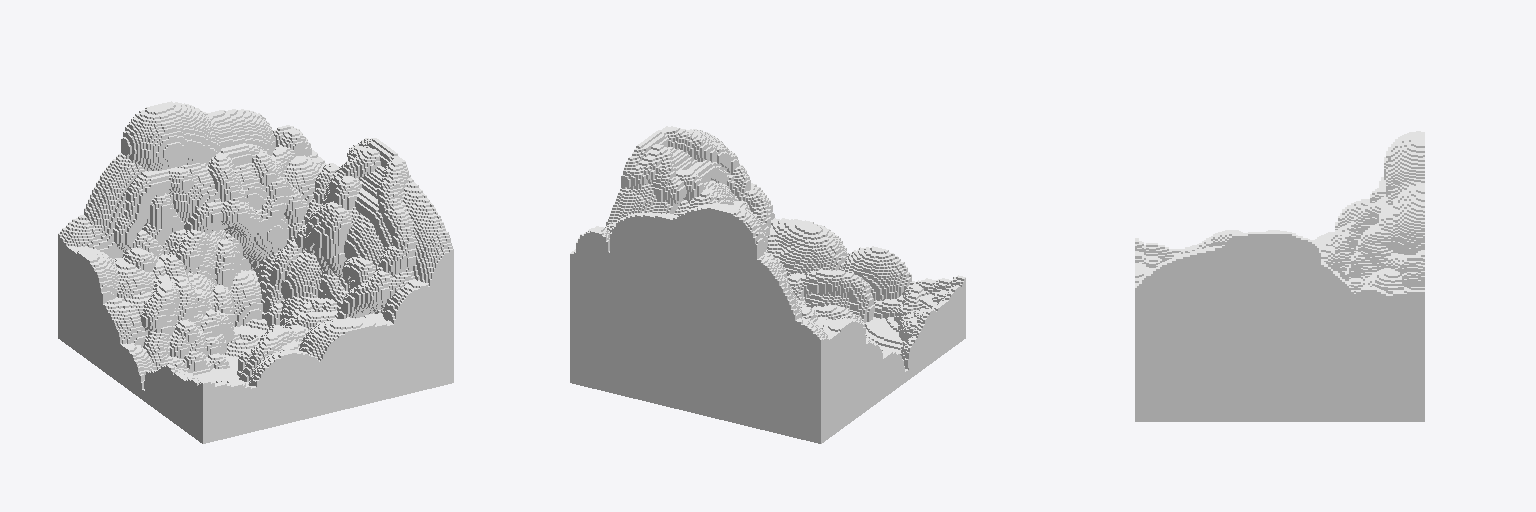
Rendered from Ext_LunarBorder8.obj.
3 views of the same model, side by side, from view 1: azimuth 30°, elevation 25°; view 2: azimuth 150°, elevation 25°; view 3: azimuth 270°, elevation 25° (orthographic).
Size of the model in its own units: 126 by 100 by 126.